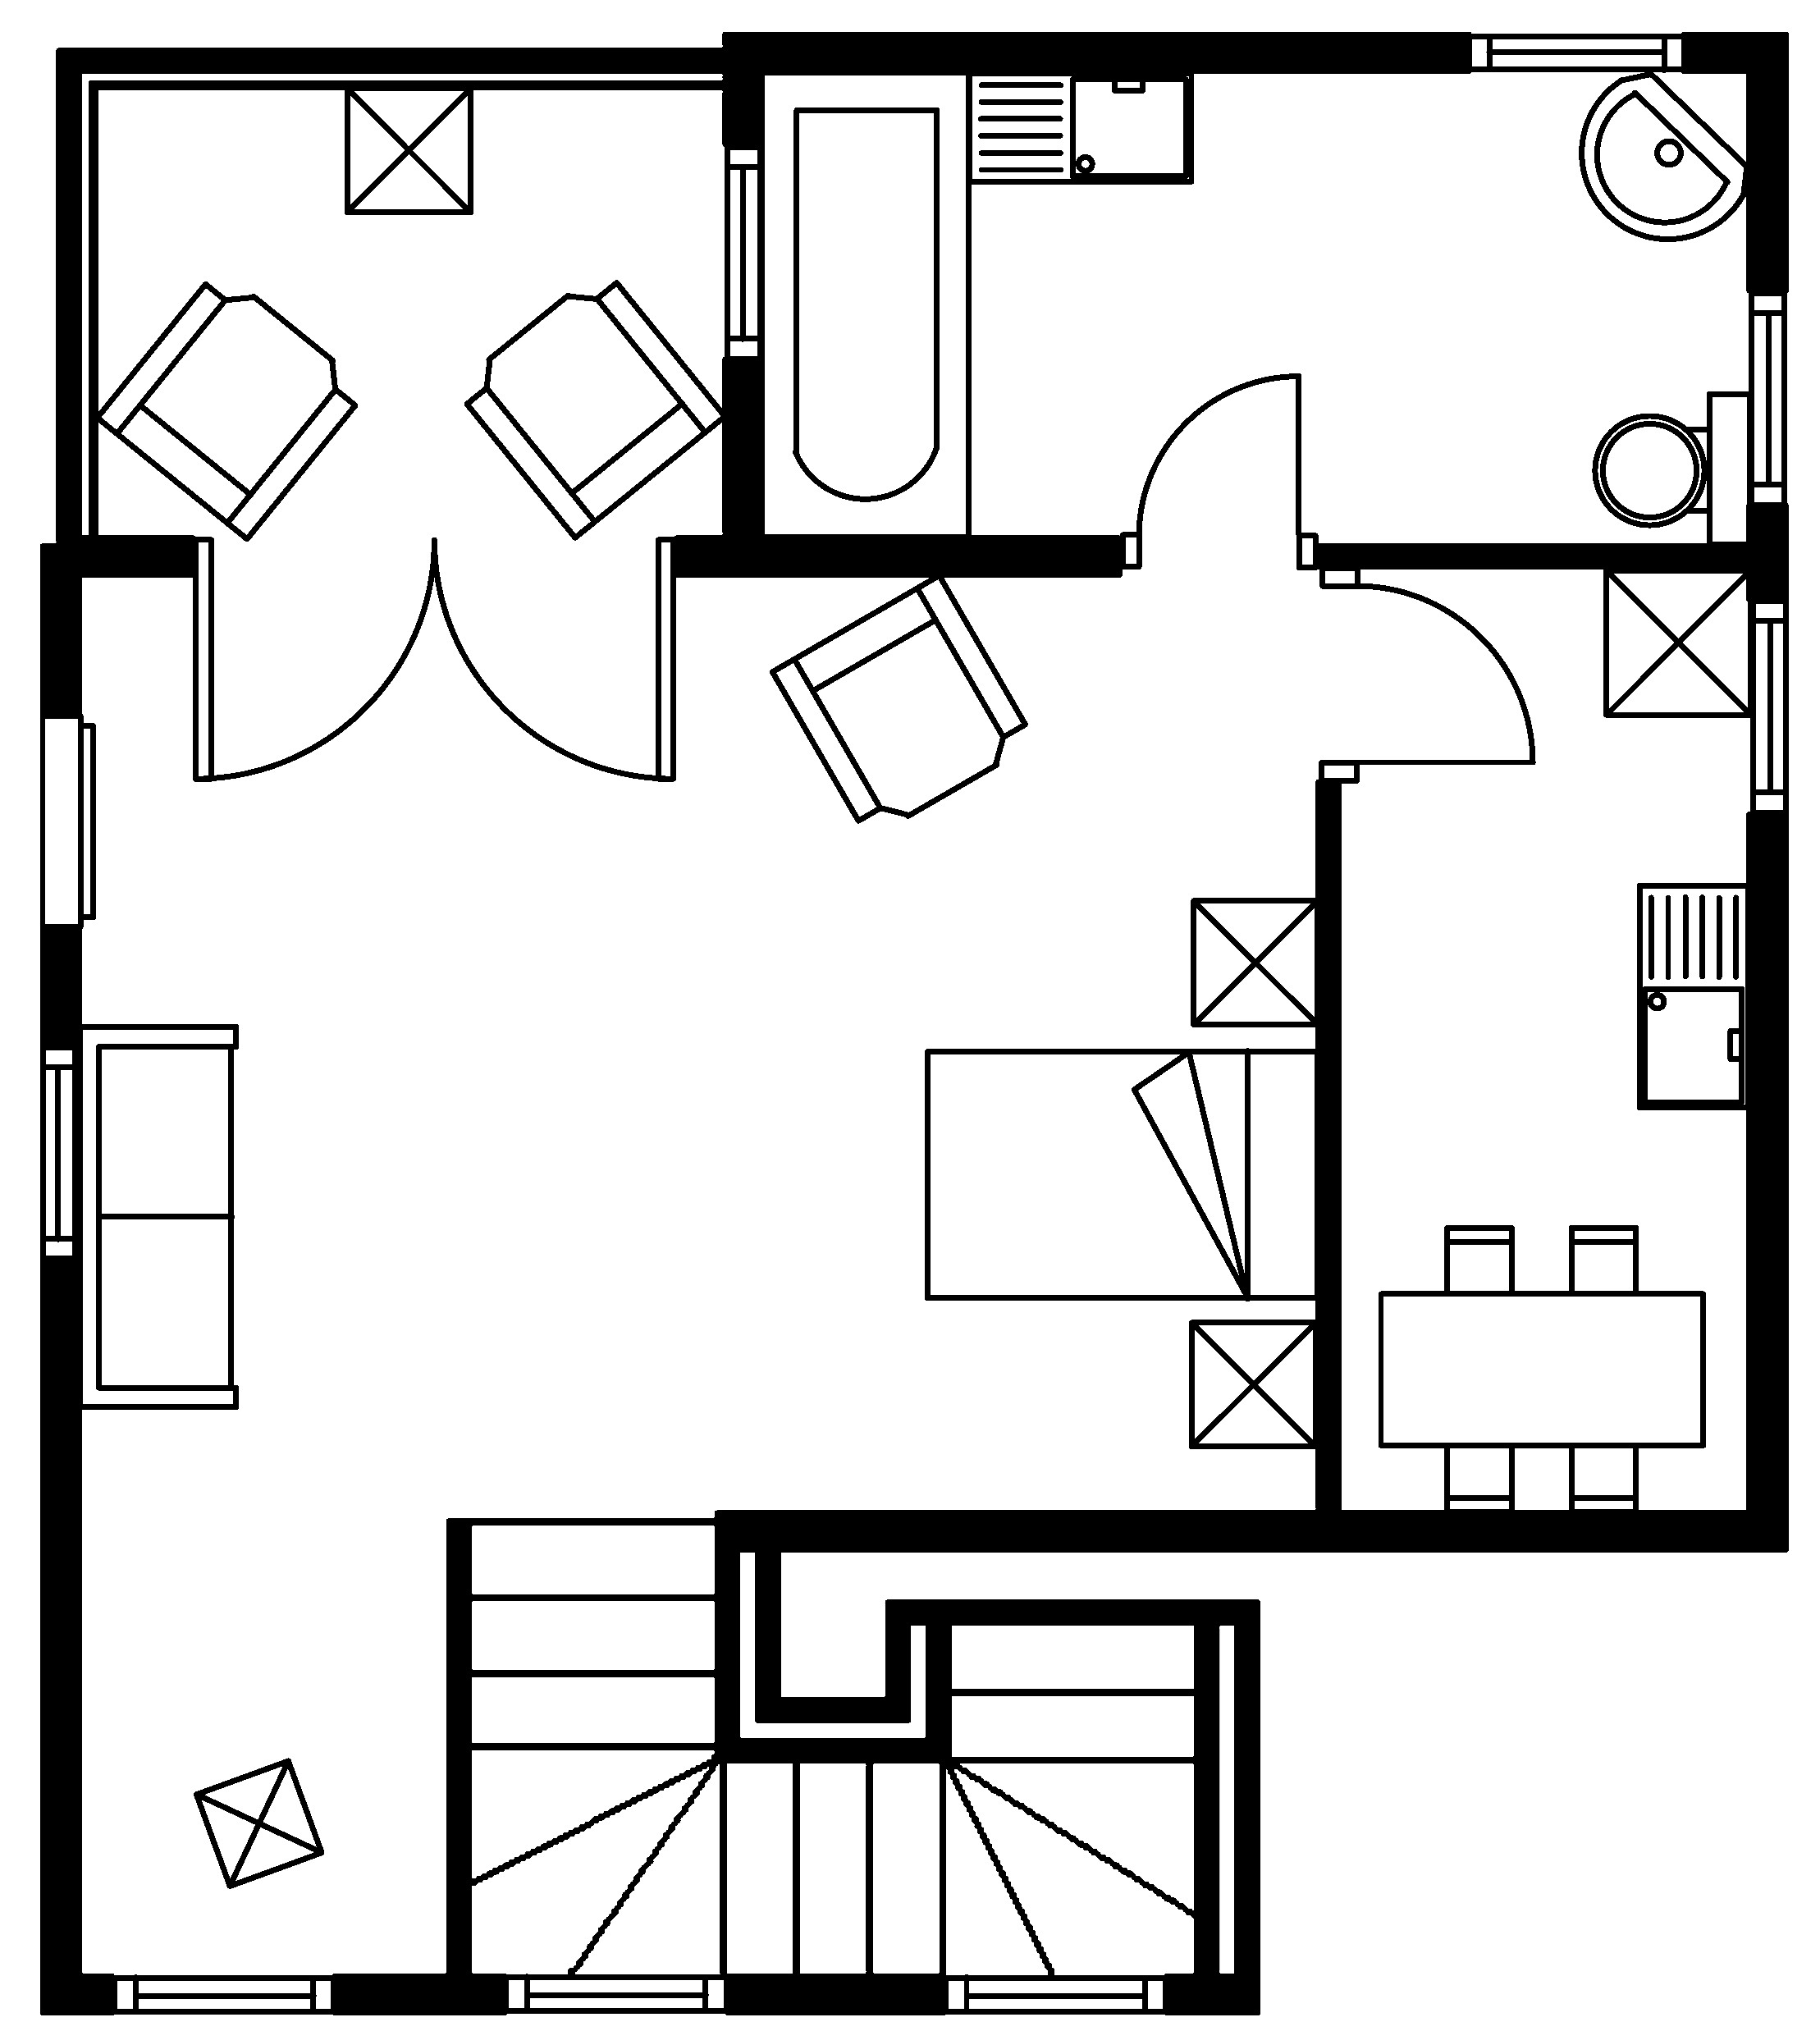armchair: (462, 278, 727, 541), (93, 279, 358, 543), (768, 571, 1028, 824)
bed: (922, 1047, 1321, 1302)
coffee_table: (1602, 566, 1753, 719), (191, 1757, 325, 1889), (1186, 1318, 1319, 1449), (1189, 896, 1321, 1028), (343, 84, 474, 214)
dining_table: (1376, 1223, 1706, 1516)
large_sink: (1592, 388, 1753, 548)
large_sofa: (76, 1023, 239, 1409)
sink: (964, 69, 1195, 184), (1634, 882, 1750, 1110)
small_sink: (1578, 70, 1750, 241)
tub: (757, 69, 971, 539)
